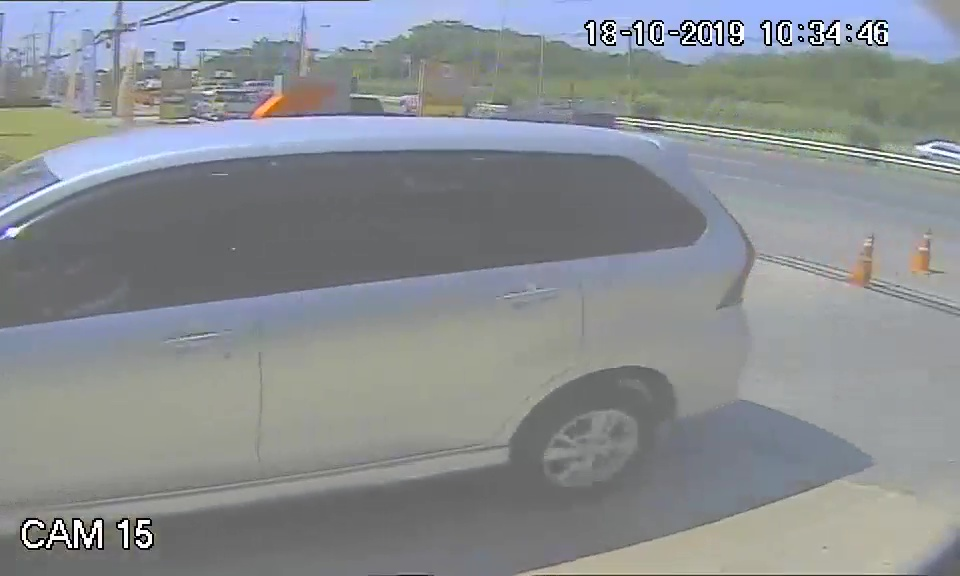pickup: (8, 112, 758, 525)
